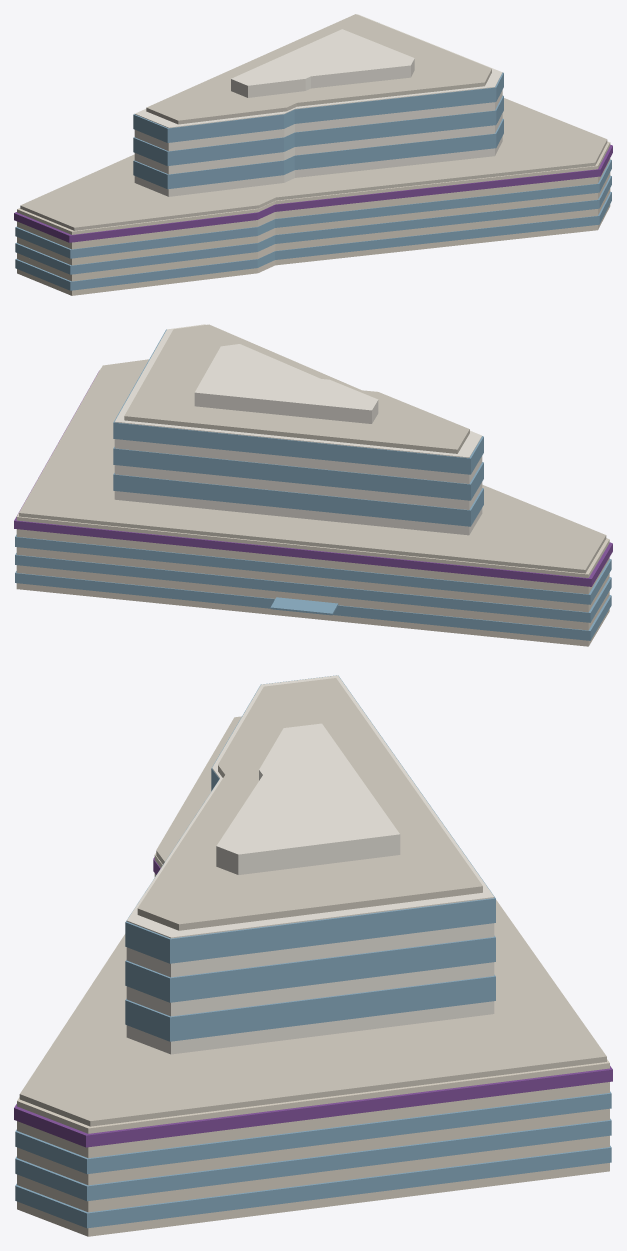
Rendered from taw_win_centre.glb.
3 views of the same model, one above another, from view 1: azimuth 30°, elevation 25°; view 2: azimuth 150°, elevation 25°; view 3: azimuth 270°, elevation 25° (orthographic). The views are drawn at different scales.
Parts seen in each view (by area): view 1: part; view 2: part; view 3: part.
Boxes of the visible parts, x1,y1,x2,y2 form: part: (14,14,612,295); part: (14,324,612,646); part: (14,675,612,1236).
Size of the model in its own units: 5540077 by 1559716 by 3283773.
